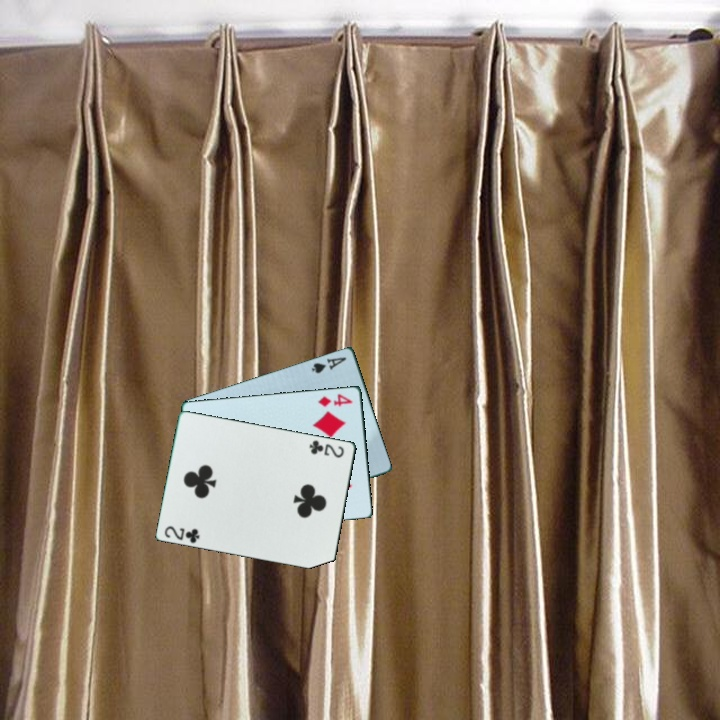2c: (161, 522, 203, 546), (306, 436, 347, 460)
4d: (314, 390, 355, 409)
As: (308, 353, 349, 376)
